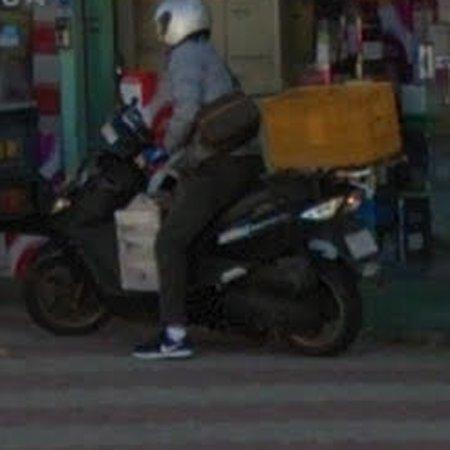motorcycles: (21, 91, 169, 334), (188, 169, 380, 354)
